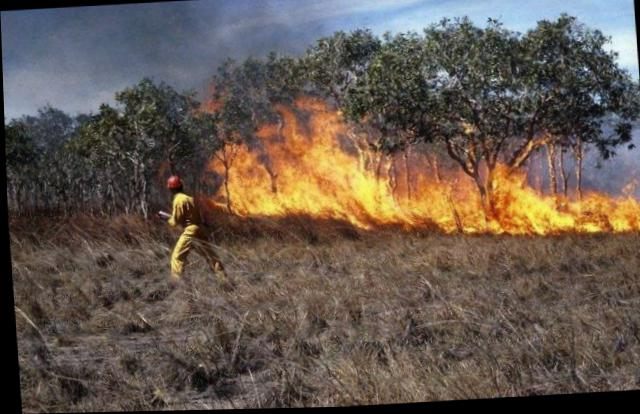fire: (206, 87, 639, 256)
